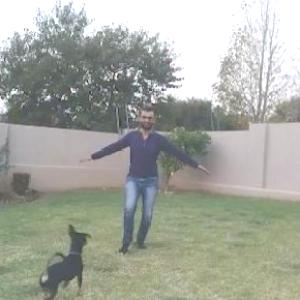land: (76, 76, 226, 277)
